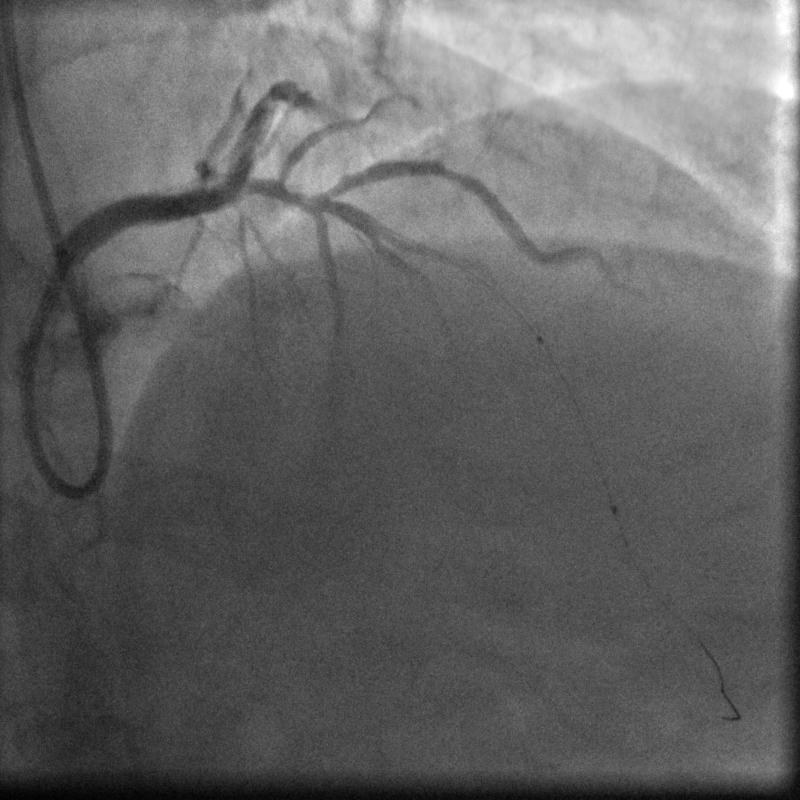Stenosis: (430, 153, 473, 198)
